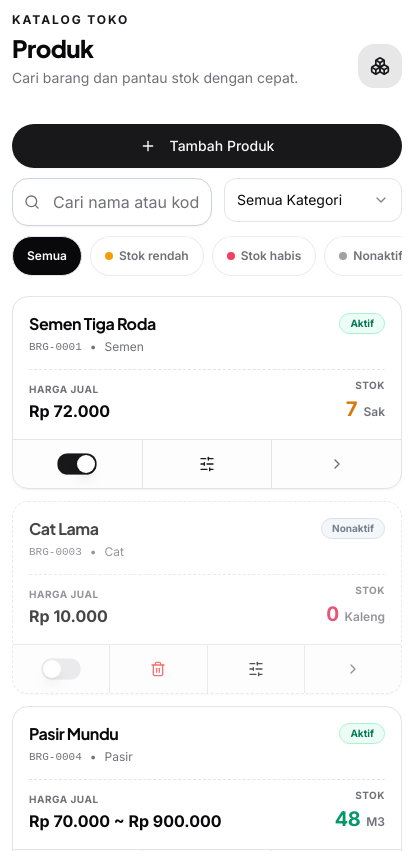
Products mobile presentation › shows out-of-stock products even when they are not on the loaded page
The width and height of the screenshot is (414, 851).
Click the button "Stok habis" at {"x": 264, "y": 256}, box [212,236,316,276]
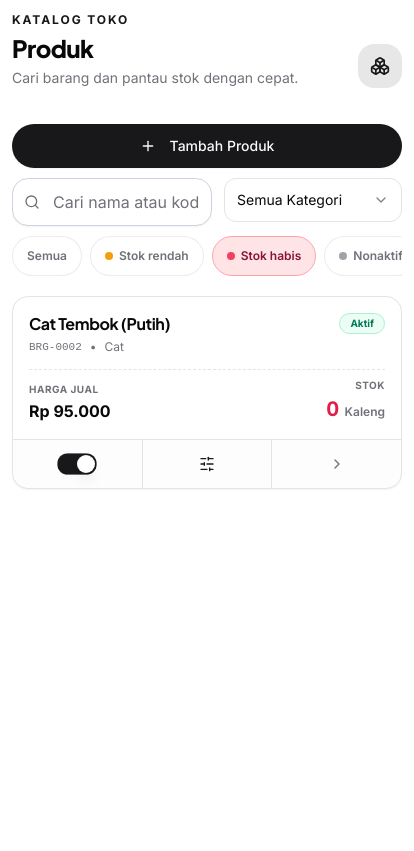
Now the element named "Daftar produk mobile" shows "Cat Tembok (Putih)", box [29,313,170,334]
Now the element named "Daftar produk mobile" no longer shows "Semen Tiga Roda", box [12,296,402,489]
